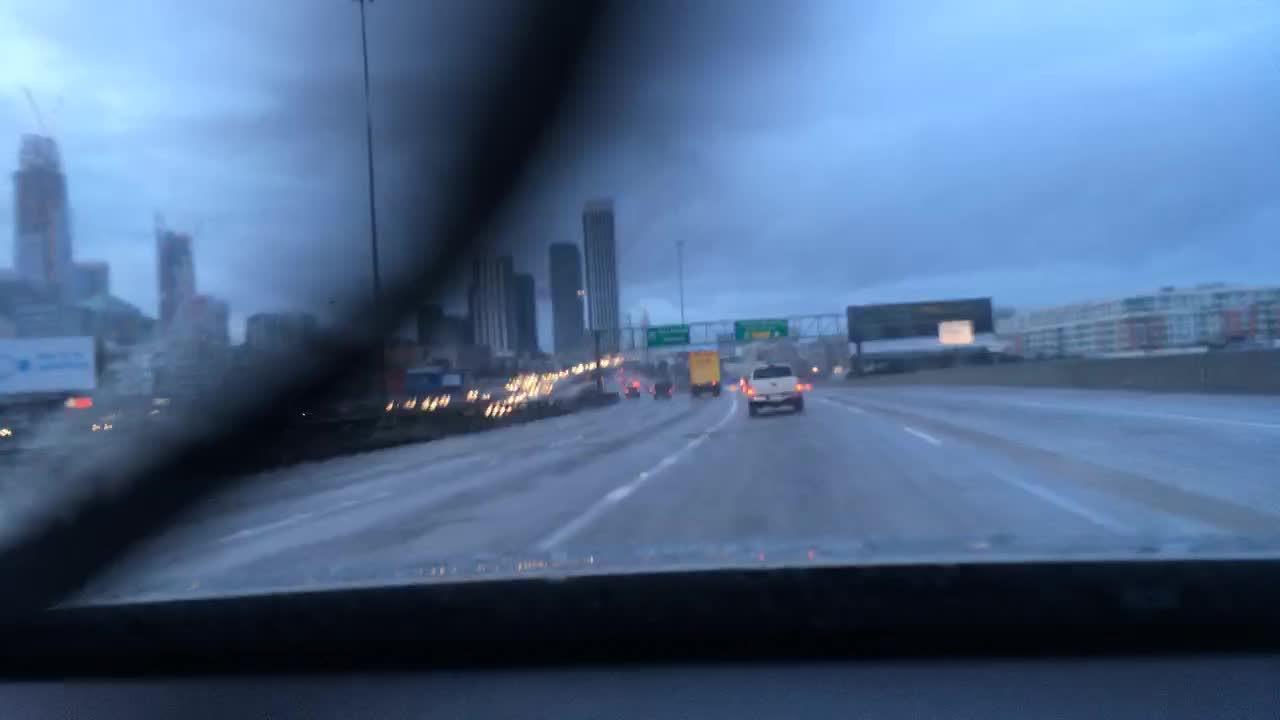car: (744, 362, 805, 411), (653, 381, 672, 402), (623, 378, 640, 395)
traffic sign: (848, 294, 994, 346), (733, 317, 789, 338), (939, 318, 971, 345), (646, 325, 688, 345)
truck: (684, 346, 723, 395)
